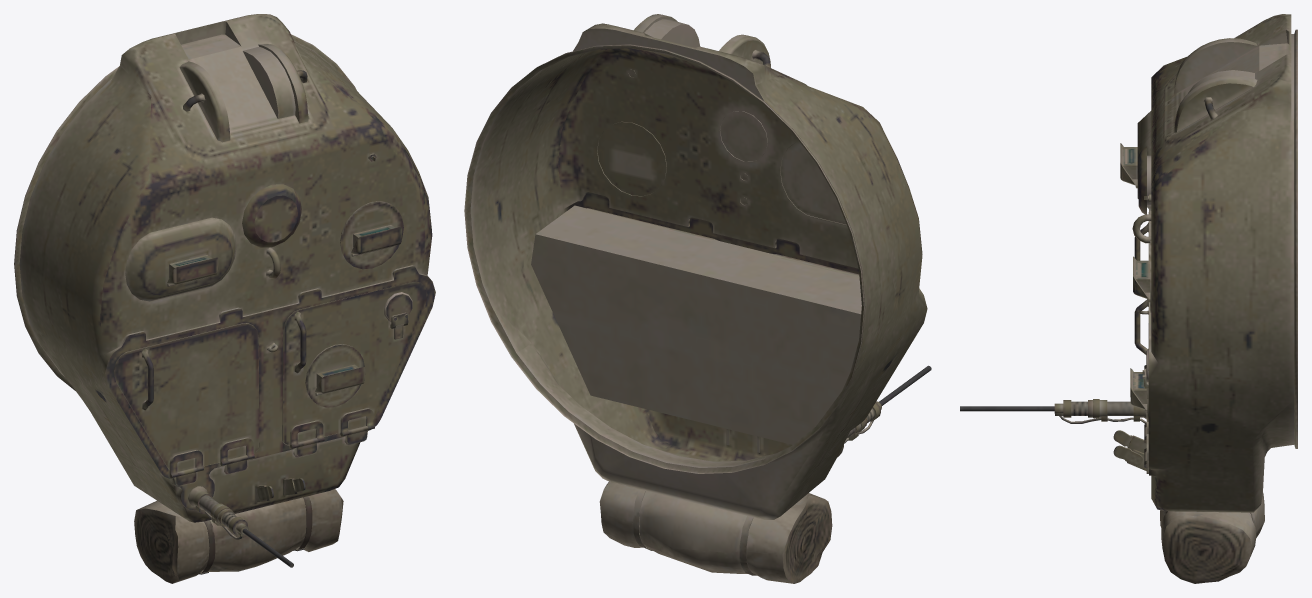
Rendered from Turret_01.glb.
3 renders of one model, left to right at view 1: azimuth 30°, elevation 25°; view 2: azimuth 150°, elevation 25°; view 3: azimuth 270°, elevation 25°, orthographic. The views are drawn at different scales.
Parts seen in each view (by area): view 1: set_0_group_0; view 2: set_0_group_0; view 3: set_0_group_0.
Part boxes in pixels (x1,y1,x2,y2): set_0_group_0: (14, 14, 435, 583); set_0_group_0: (464, 14, 931, 583); set_0_group_0: (960, 14, 1297, 583).
Size of the model in its own units: 1.34 by 1.79 by 1.08.
Materials: 1 (1 with a texture image).
